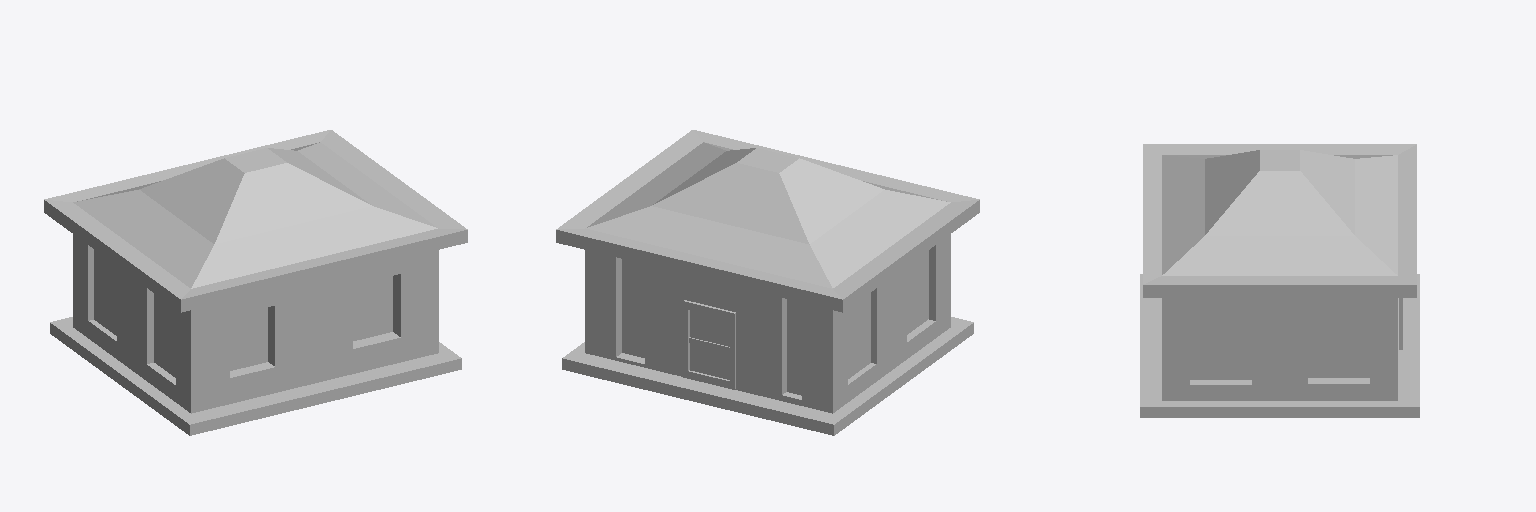
The model's file is HouseOfRisingSon.obj.
The picture shows the model from 3 angles: view 1: azimuth 30°, elevation 25°; view 2: azimuth 150°, elevation 25°; view 3: azimuth 270°, elevation 25°; orthographic projection.
Parts seen in each view (by area): view 1: Cube.001_Cube.002; view 2: Cube.001_Cube.002; view 3: Cube.001_Cube.002.
Part boxes in pixels (x1,y1,x2,y2): Cube.001_Cube.002: (44, 130, 467, 435); Cube.001_Cube.002: (556, 130, 979, 435); Cube.001_Cube.002: (1140, 144, 1419, 417).
Bounding box in the file's own units: 10.69 × 6.8 × 9.03.